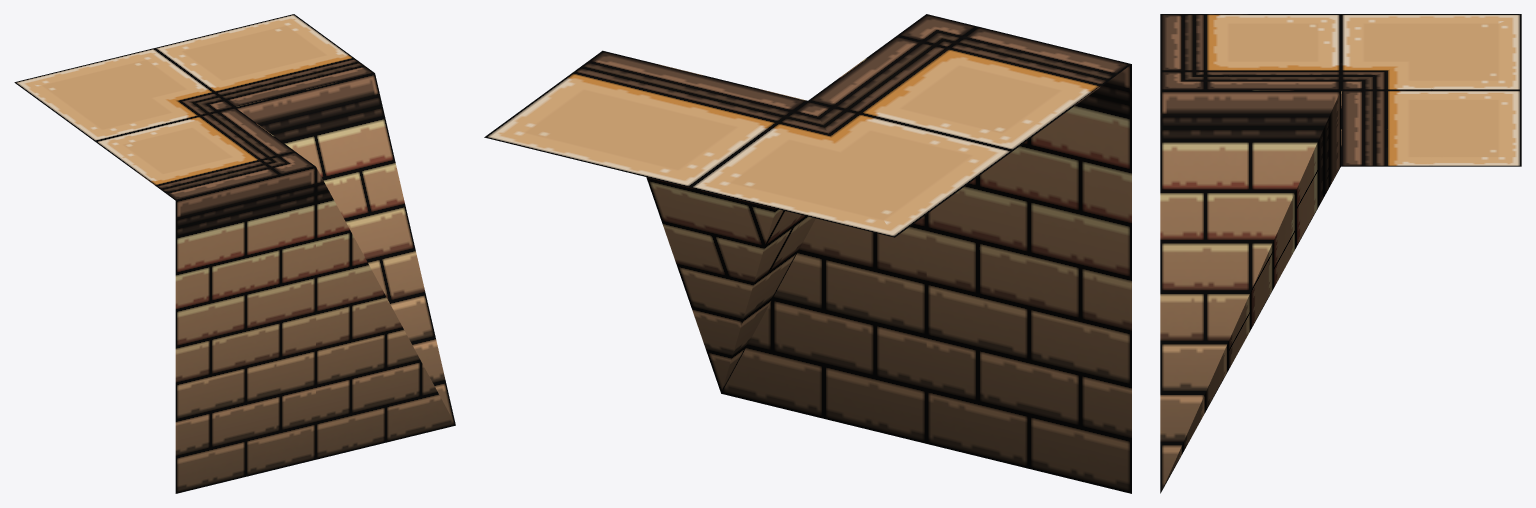
Rendered from wall_cornerInCap_B.FBX.
3 renders of one model, left to right at view 1: azimuth 30°, elevation 25°; view 2: azimuth 150°, elevation 25°; view 3: azimuth 270°, elevation 25°, orthographic. The views are drawn at different scales.
Visible parts, largest first — view 1: wall_cornerInCap_B; view 2: wall_cornerInCap_B; view 3: wall_cornerInCap_B.
Boxes of the visible parts, left/top/right/bottom form: wall_cornerInCap_B: left=14, top=14, right=455, bottom=493; wall_cornerInCap_B: left=484, top=14, right=1131, bottom=493; wall_cornerInCap_B: left=1160, top=14, right=1521, bottom=493.
Size of the model in its own units: 4 by 4 by 4.
Materials: 1 (1 with a texture image).
